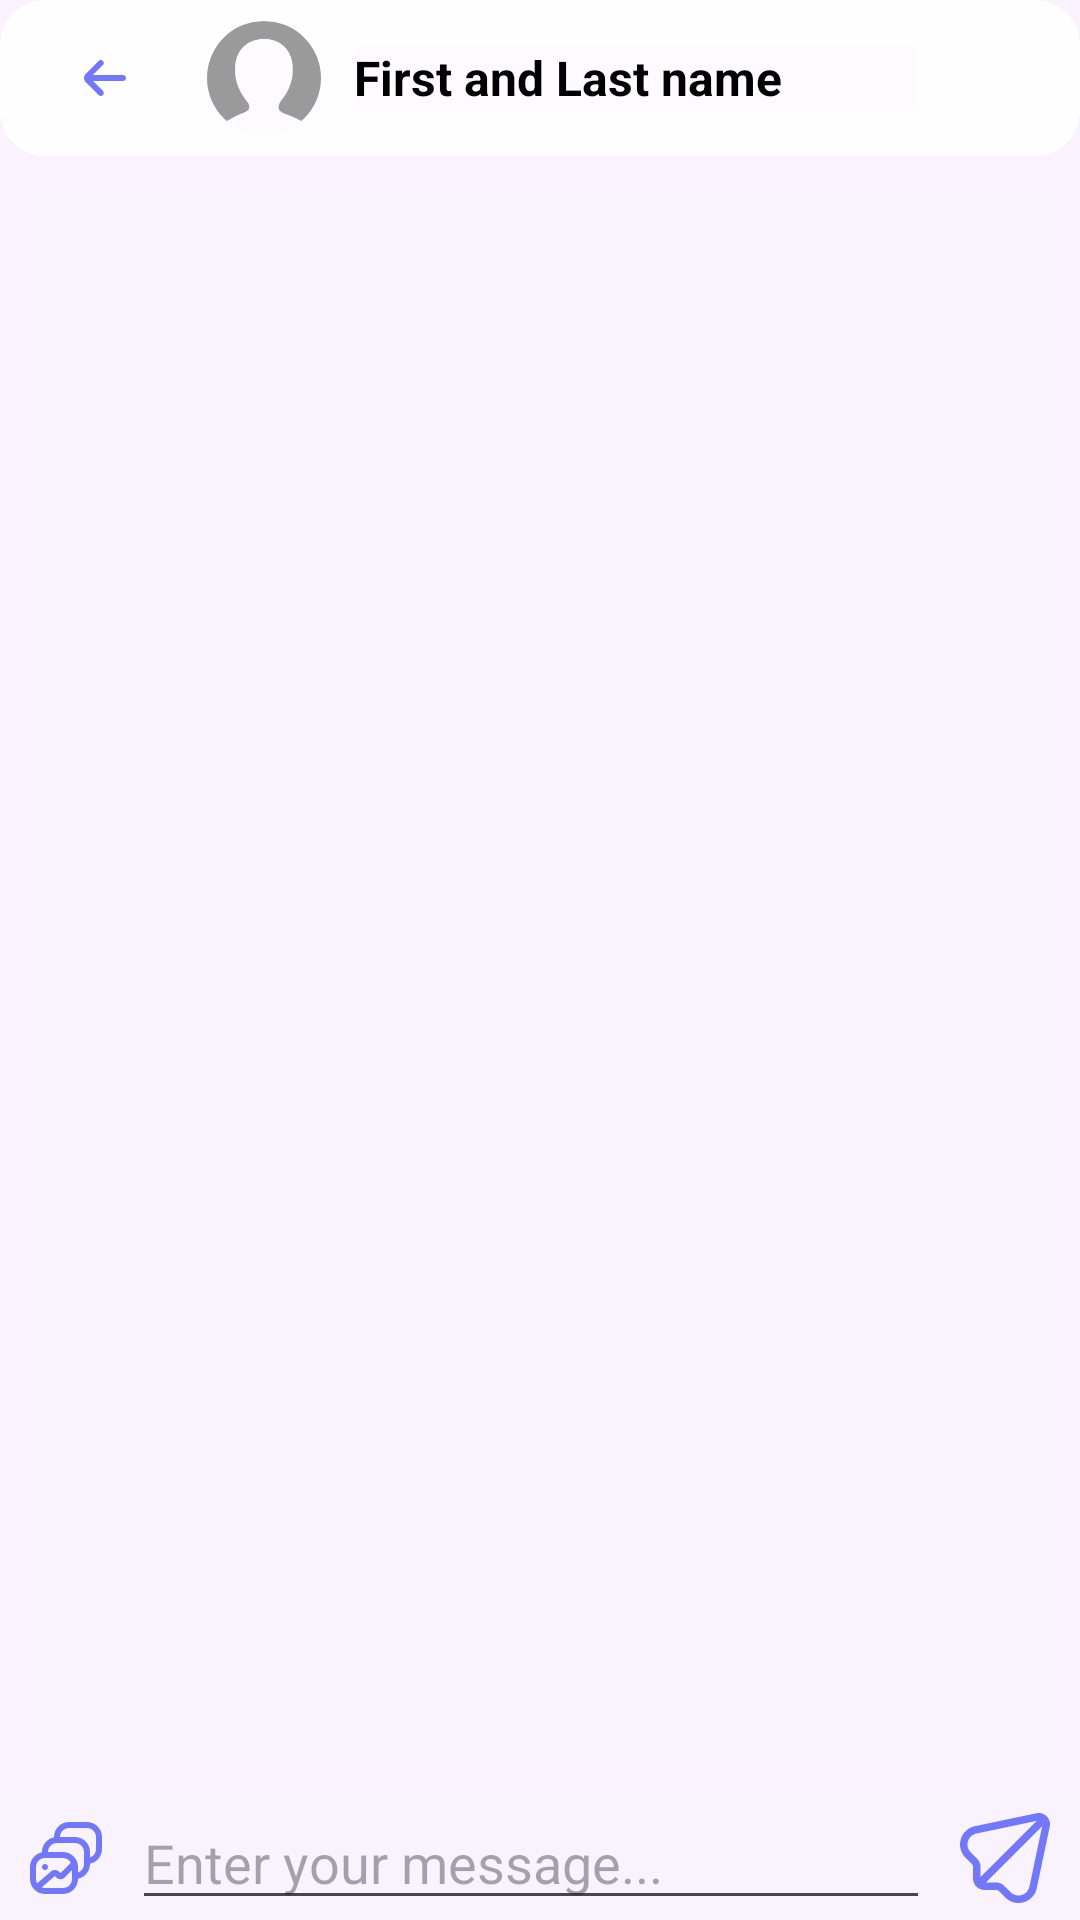

Icon click points for this 1080w x 1920h phone screenshot, format (x,y):
back: (105,78)
gallery: (66,1858)
send: (1005,1858)
user: (264,71)
